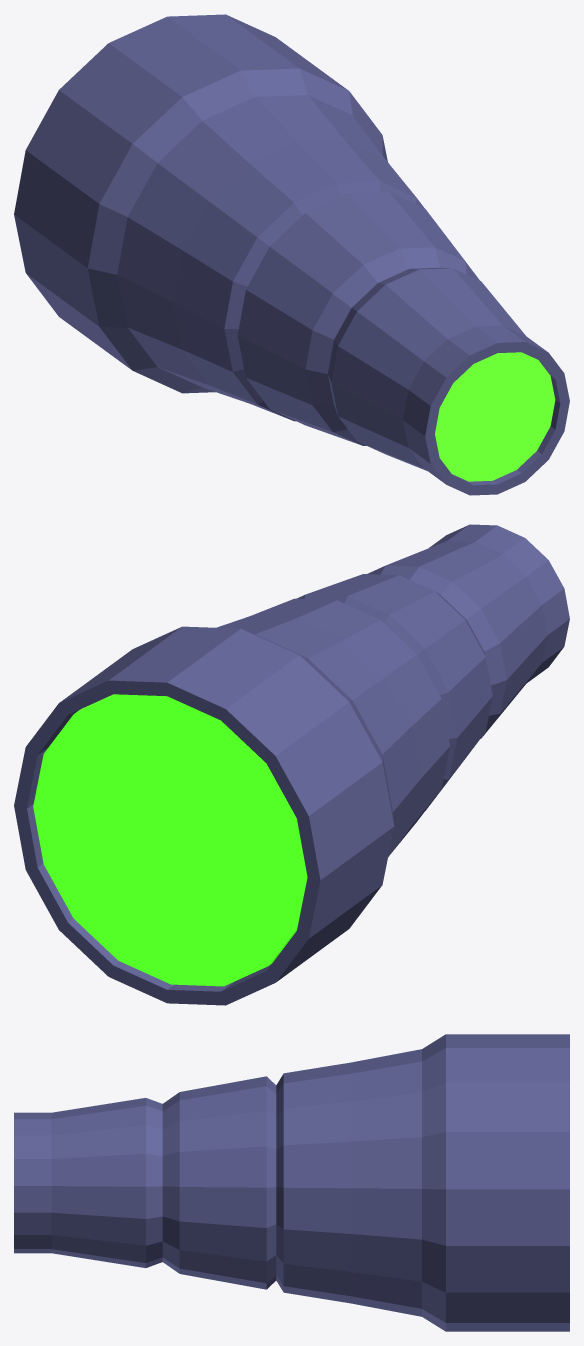
Rendered from Scope.fbx.
3 views of the same model, one above another, from view 1: azimuth 30°, elevation 25°; view 2: azimuth 150°, elevation 25°; view 3: azimuth 270°, elevation 25° (orthographic). The views are drawn at different scales.
Visible parts, largest first — view 1: Cylinder.001, Cylinder.003; view 2: Cylinder.001, Cylinder.002; view 3: Cylinder.001.
Part boxes in pixels (bbox=[...]): Cylinder.001: bbox=[14, 14, 569, 495]; Cylinder.003: bbox=[435, 352, 555, 481]; Cylinder.001: bbox=[14, 524, 569, 1005]; Cylinder.002: bbox=[33, 694, 307, 986]; Cylinder.001: bbox=[14, 1034, 569, 1331].
Size of the model in its own units: 200 by 200 by 373.
